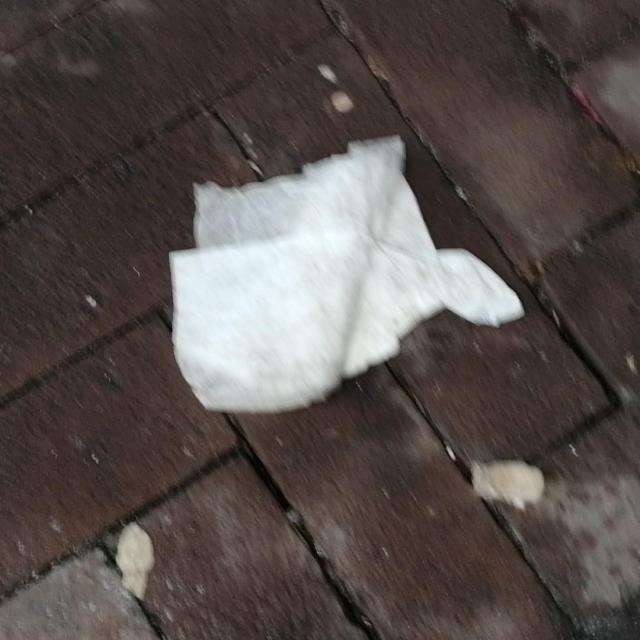Paper: (168, 131, 528, 416)
